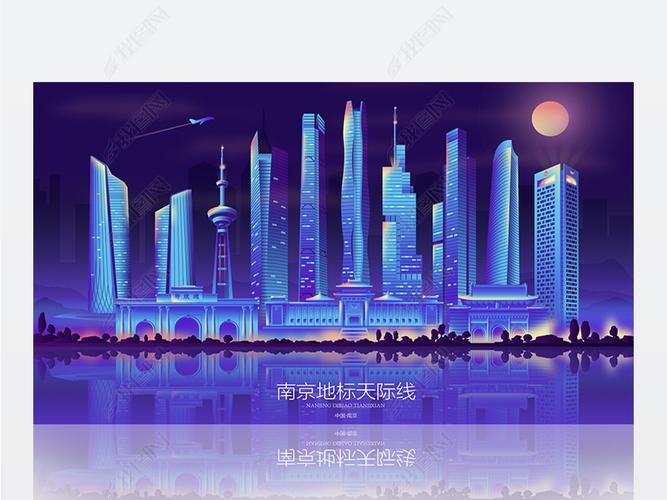buildings: (102, 111, 506, 343), (95, 119, 251, 336), (373, 98, 506, 338), (232, 125, 336, 343), (300, 103, 385, 331), (506, 152, 599, 342)
